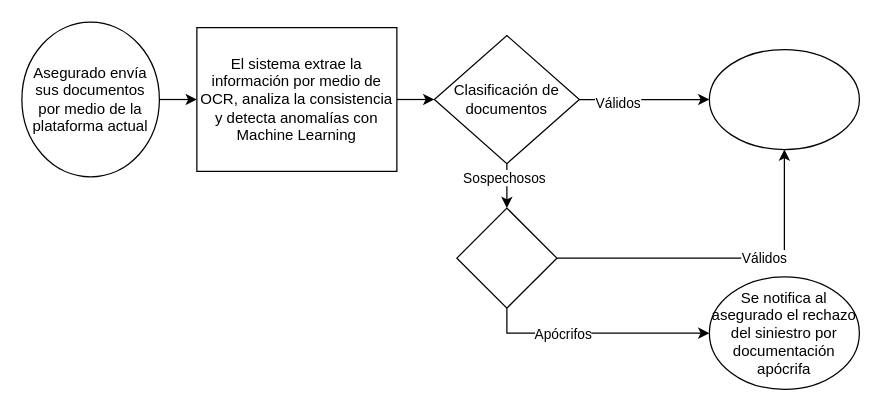
Image size: 881x411. Some labels were removed from this diagram. The box of each missing label's shape, as (x1, y1, x2, y2) in pixels:
Se notifica a asegurado y se inicia proceso de pago: (708, 48, 859, 150)
Validación manual del analista: (456, 207, 557, 308)
